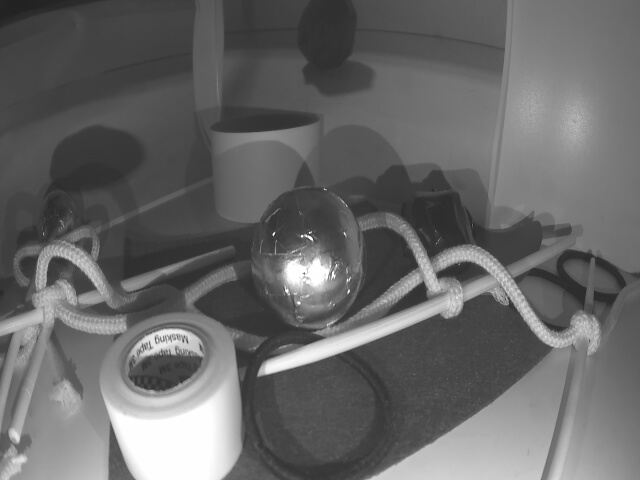Dead: (402, 190, 477, 277)
Live: (255, 190, 365, 330), (38, 192, 77, 249)
